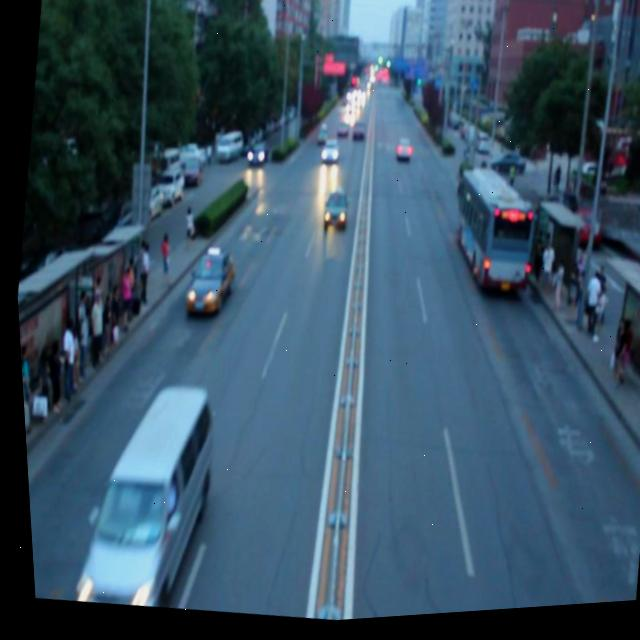car: (181, 249, 234, 326), (317, 192, 347, 235), (316, 142, 338, 168), (390, 139, 411, 165), (312, 126, 328, 148)
truck: (67, 375, 216, 617)
van: (439, 171, 538, 302)
